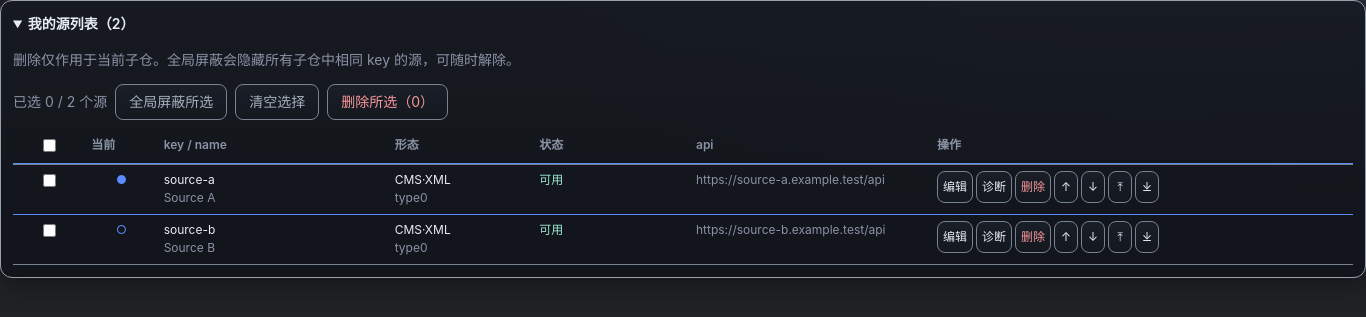
Test: SourceManagementSection › deletes the selected sources after confirmation
Click the checkbox named "全选源": (50, 146) [43,139,56,152]
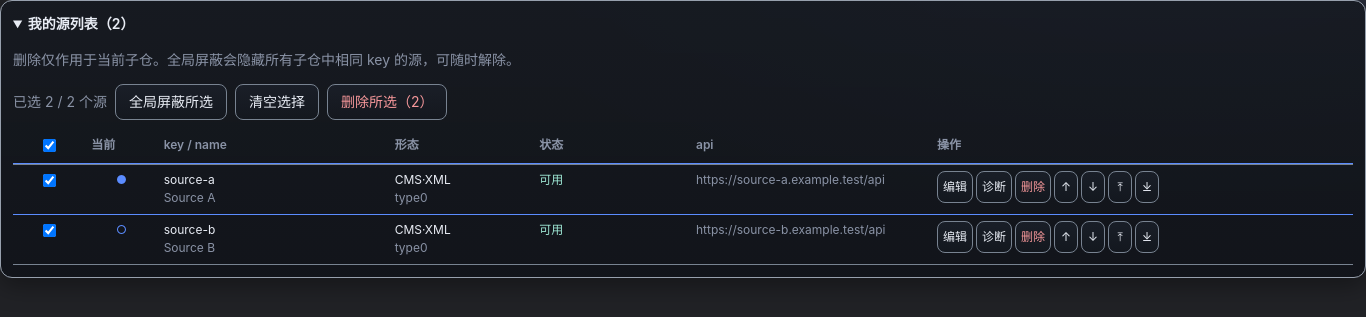
Click the button "删除所选（2）": (387, 102) [327,84,447,120]
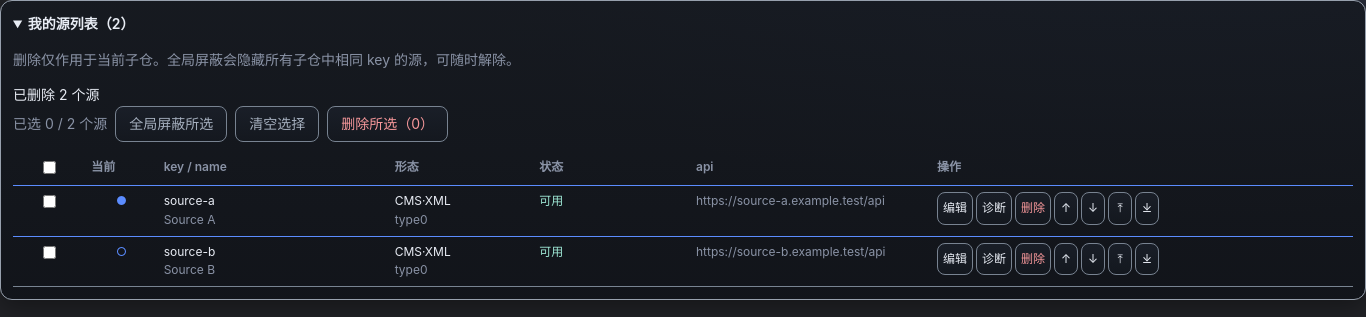
Result: the text "已删除 2 个源" is shown at [13,86,99,103]
